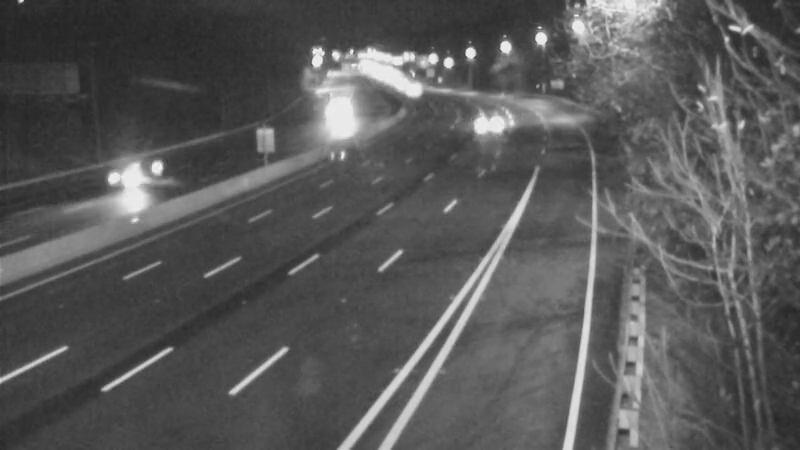vehicle: (91, 132, 171, 212), (390, 66, 440, 116), (463, 98, 513, 148), (312, 92, 362, 142)
